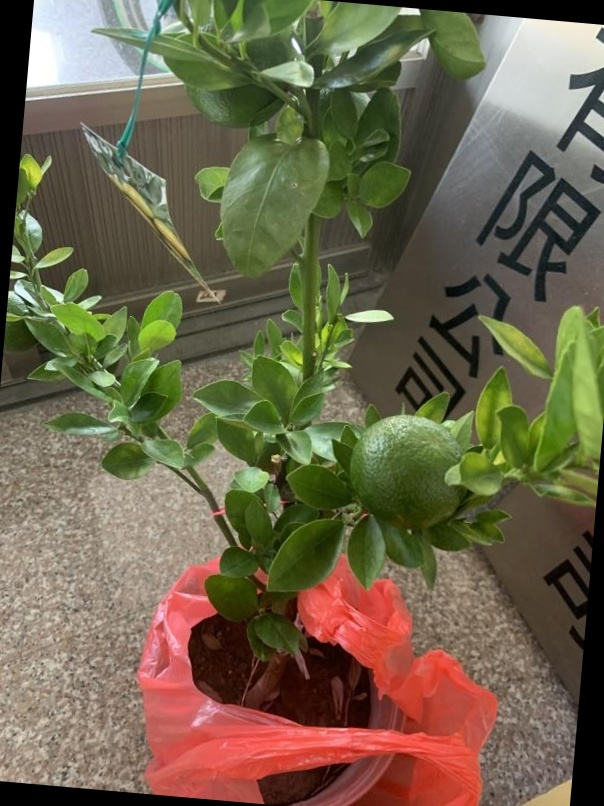Tangerine: (349, 405, 467, 532)
